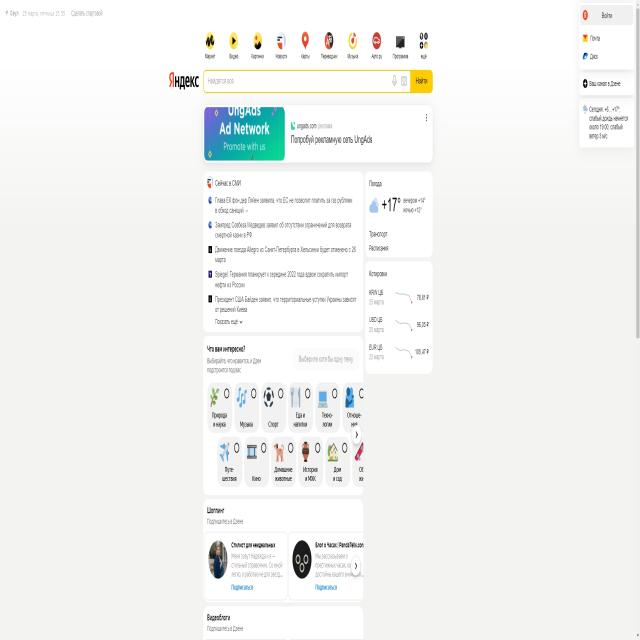search: (202, 70, 434, 94)
side-panel: (574, 5, 637, 146)
tab-bar: (193, 17, 433, 65)
